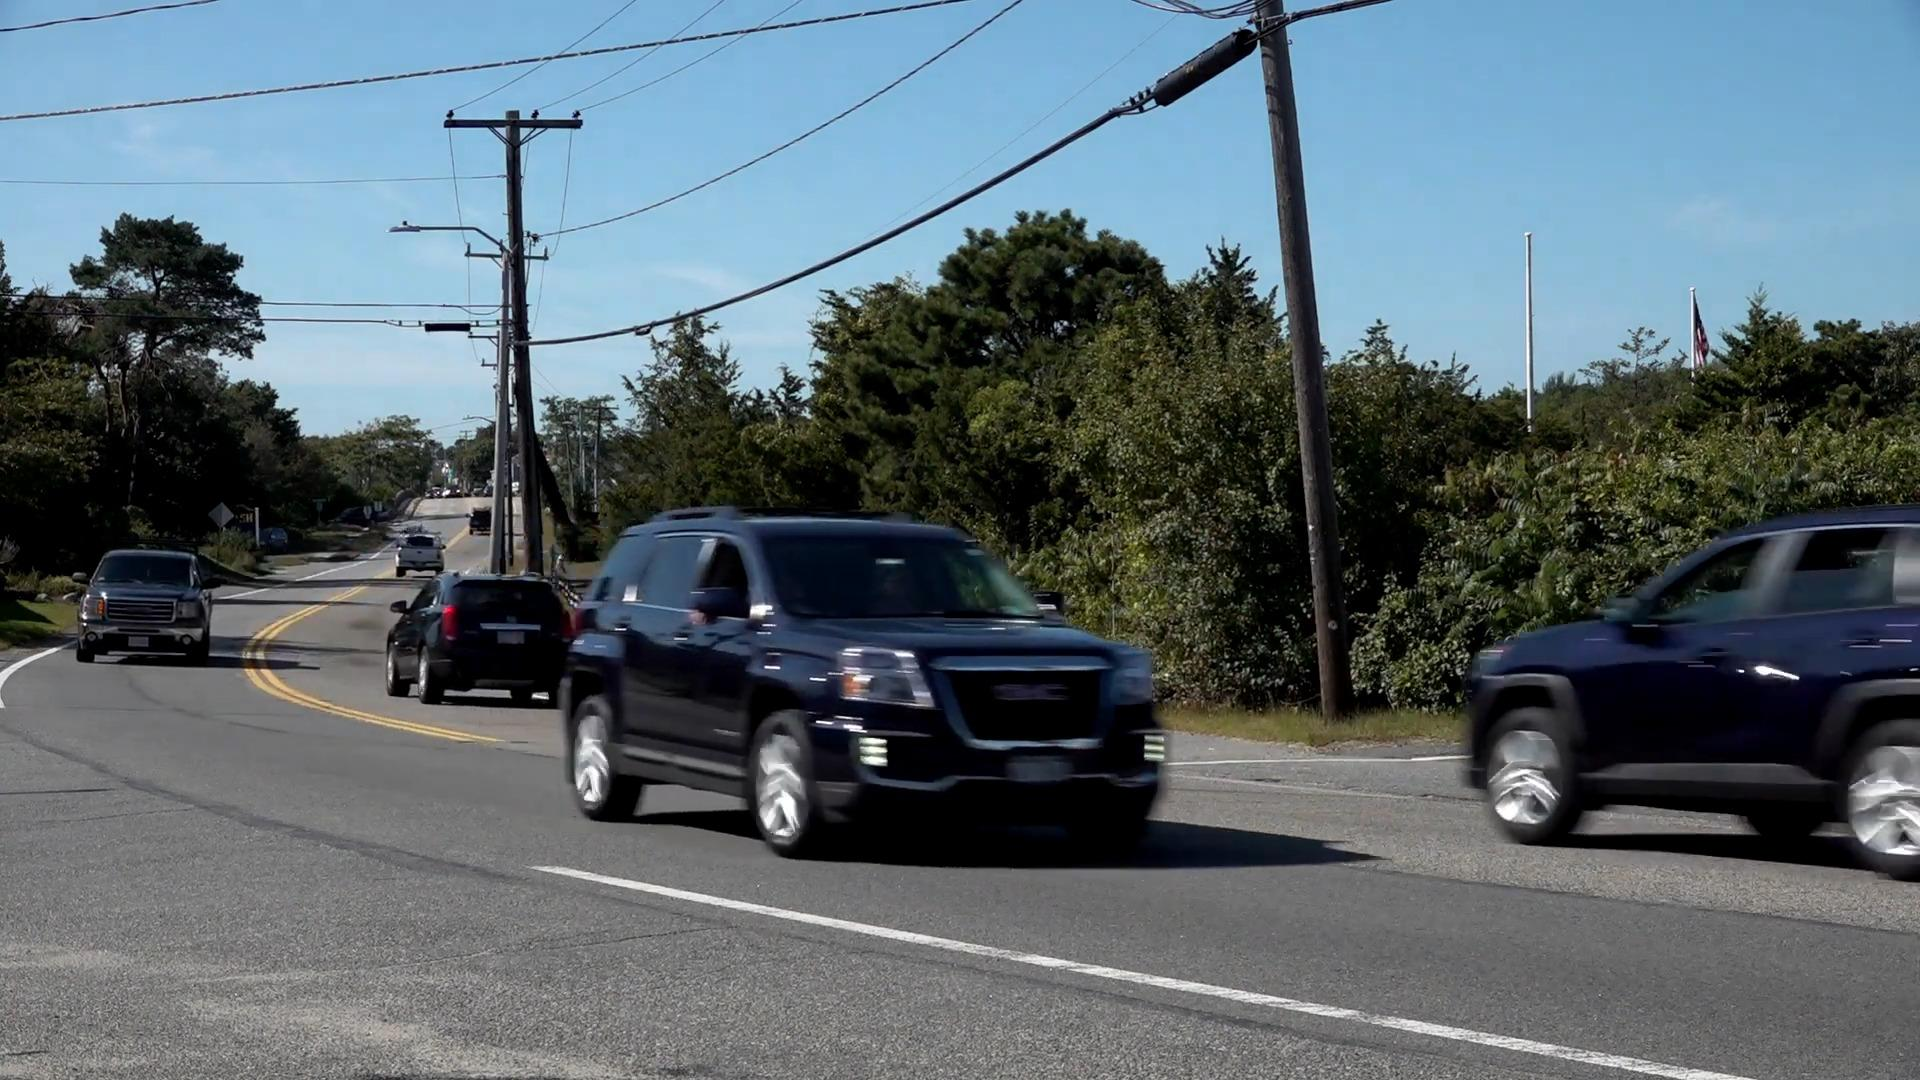pickup: (77, 550, 217, 663)
suv: (567, 514, 1173, 849), (1464, 507, 1920, 871), (389, 573, 564, 703)
